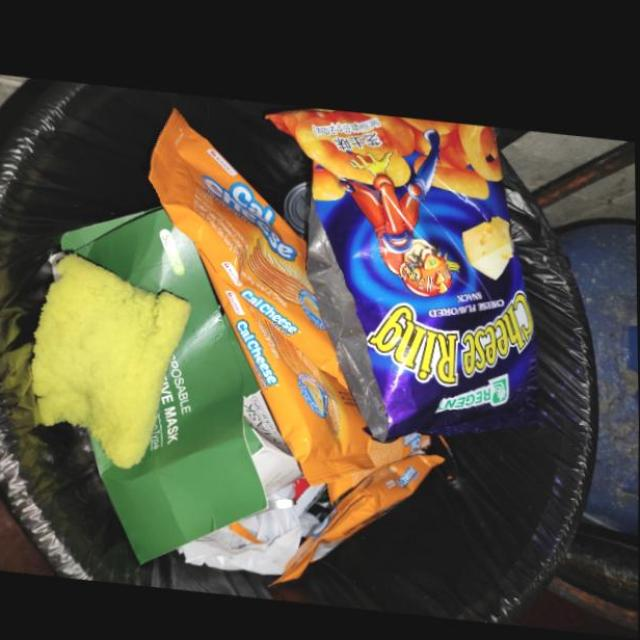bao_bi_thuc_pham: (268, 103, 539, 437), (149, 108, 376, 481), (269, 428, 446, 583)
carton: (60, 204, 302, 564)
nhom: (284, 176, 313, 238)
